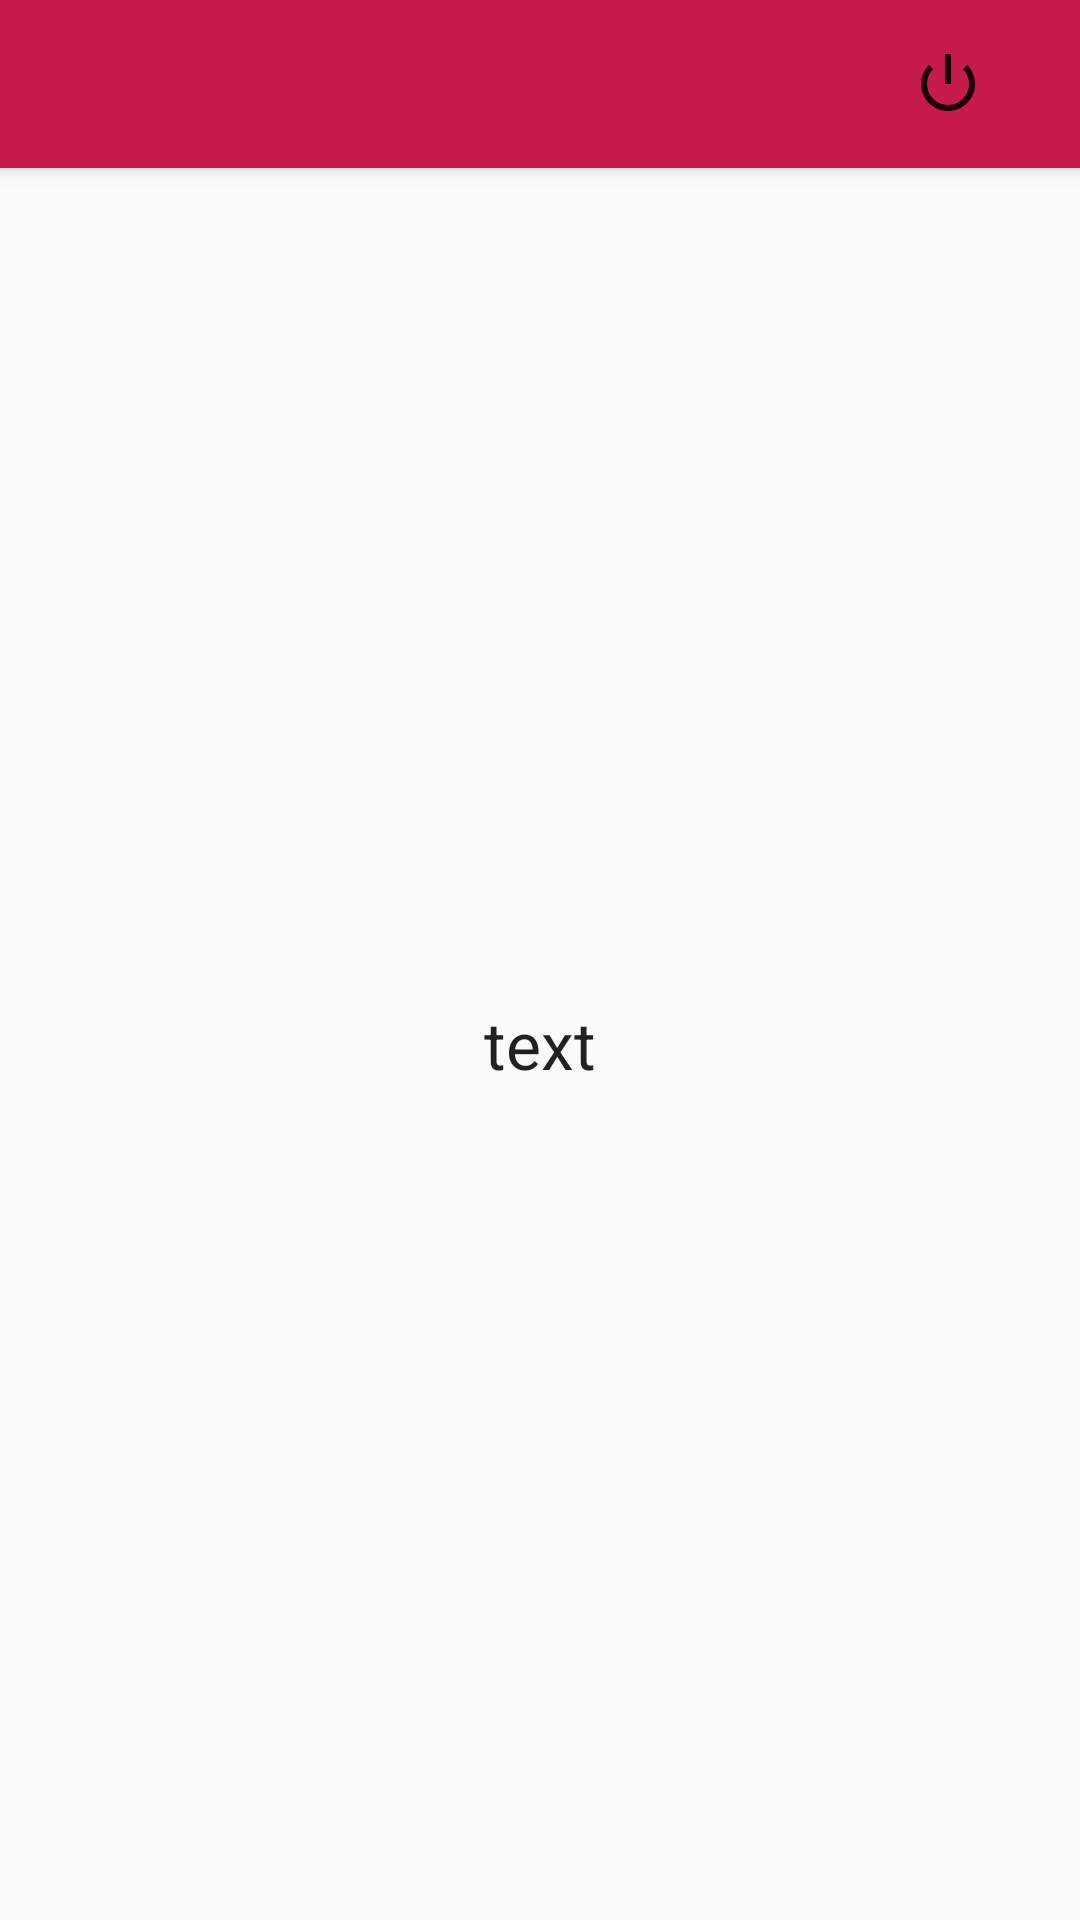

Screen size 1080px×1920px. Icon name, then its box in pixels as (x1, y1, x2, y2):
lock power off: (921, 54, 975, 111)
